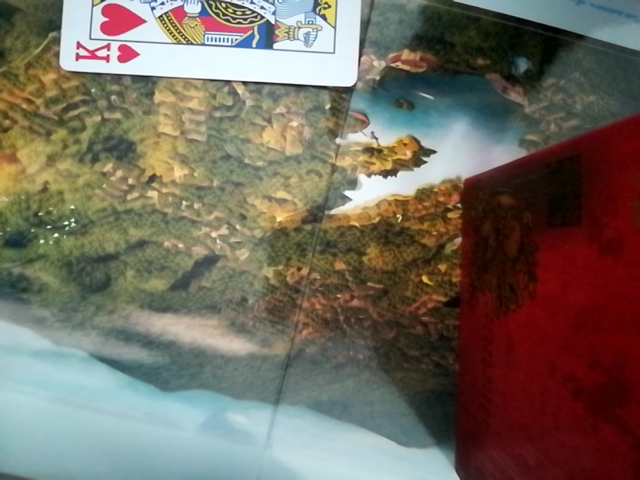hx k: (49, 3, 370, 85)
